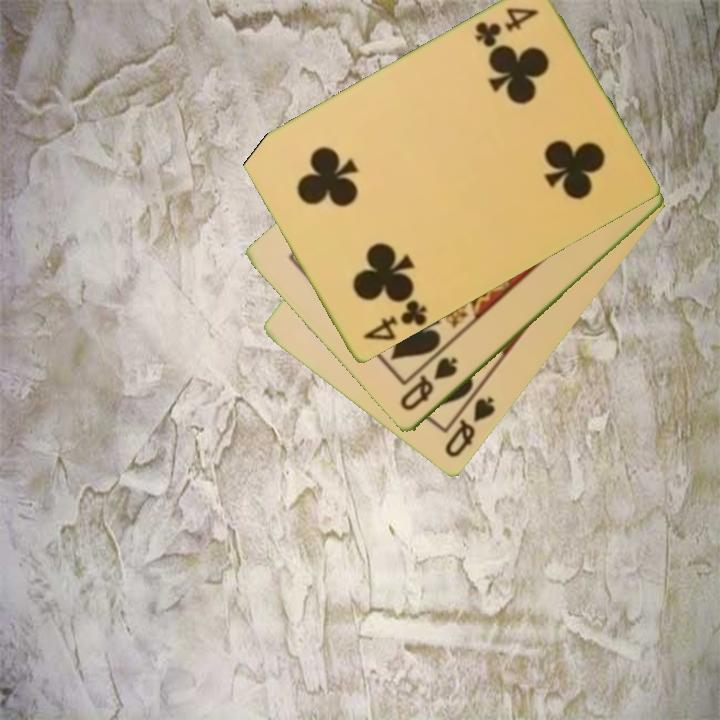4c: (359, 296, 430, 345), (471, 4, 542, 51)
Qs: (396, 354, 461, 415), (441, 393, 498, 462)
